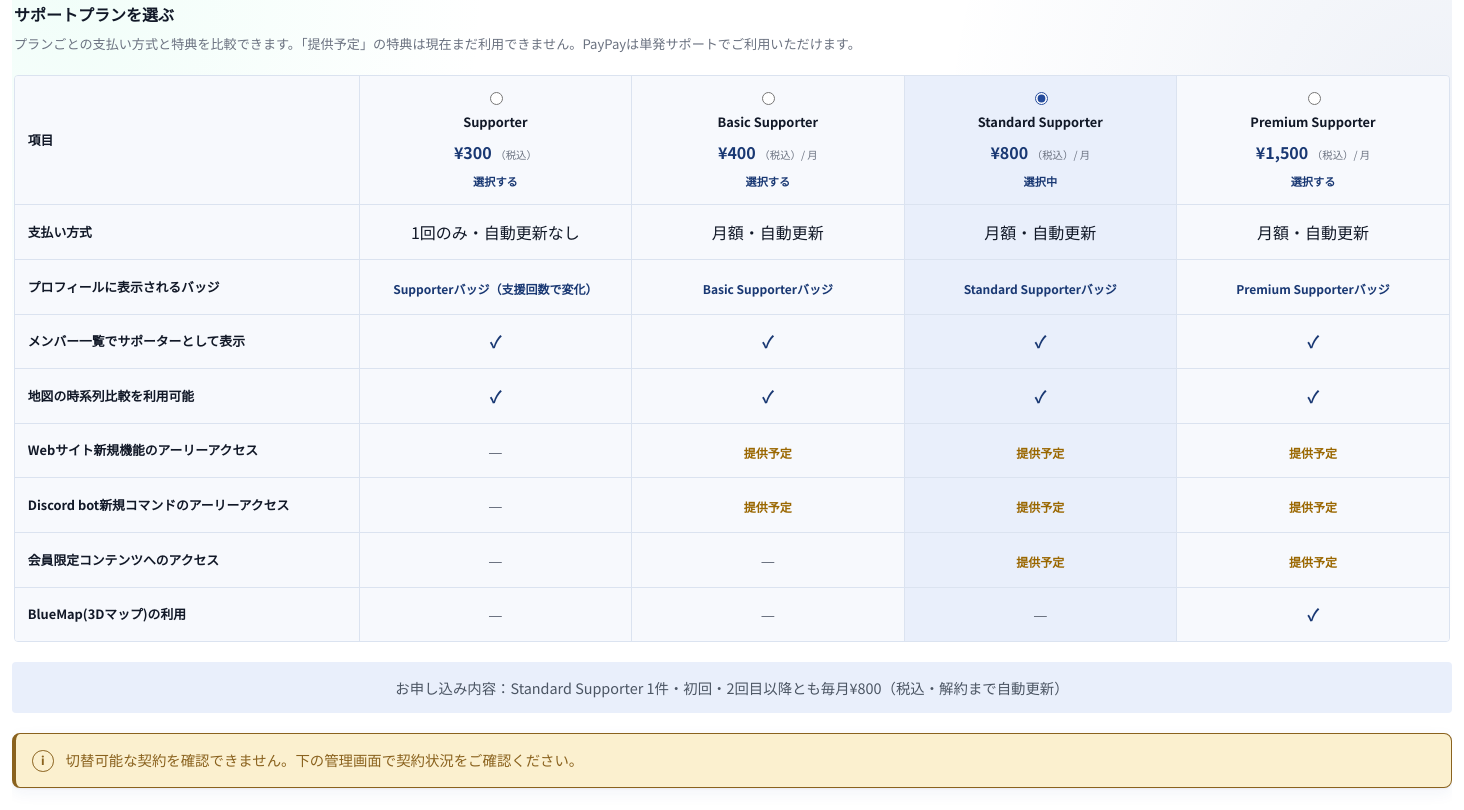
Test: SupportForm › blocks a monthly resubscription but allows one-time support
Click the radio button labelled "Supporter ¥300 （税込） 選択する" at {"x": 496, "y": 98}, box [490,92,503,105]
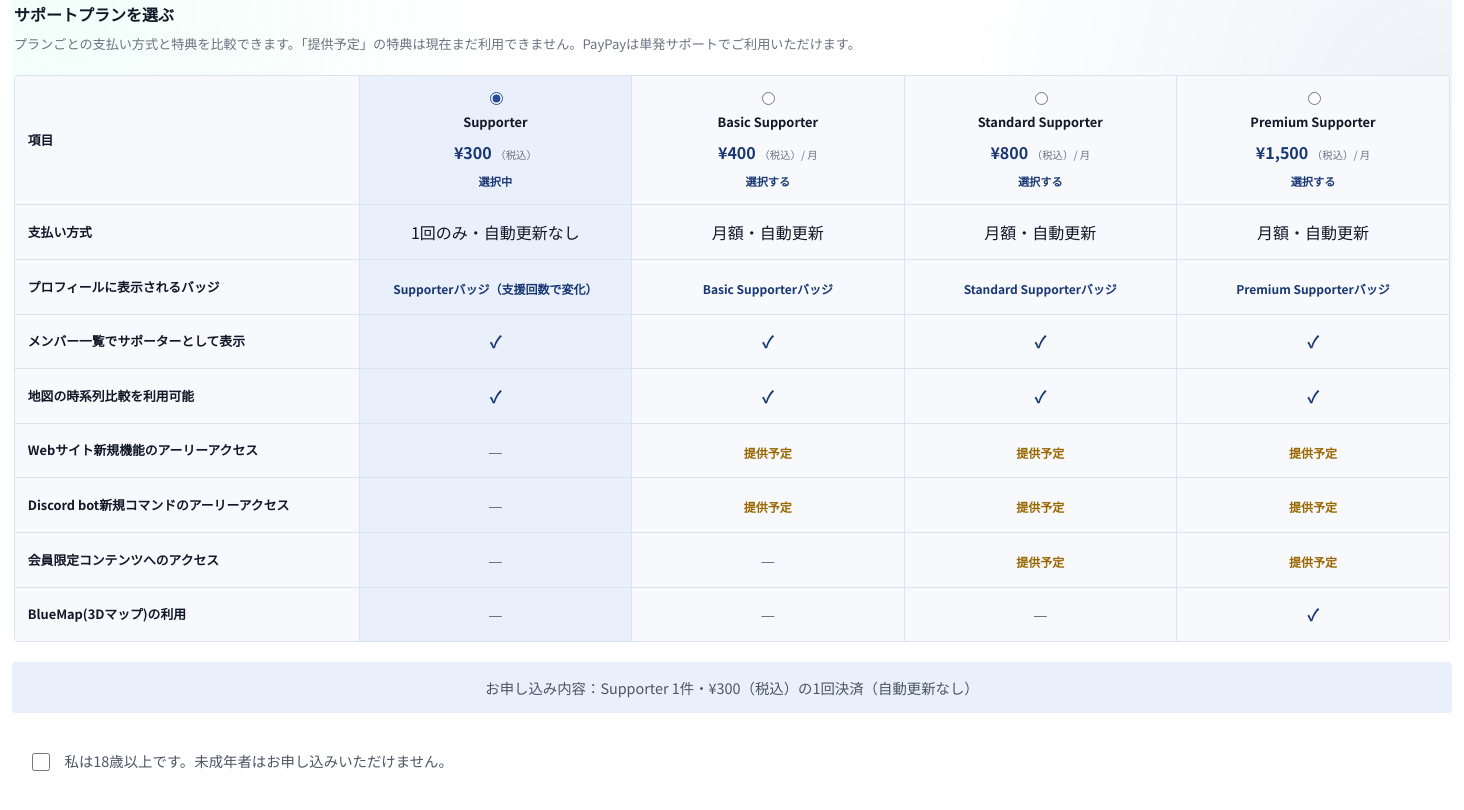
Click the checkbox labelled "私は18歳以上です。未成年者はお申し込みいただけません。" at {"x": 41, "y": 762}, box [32,753,50,771]
(page scrolled)
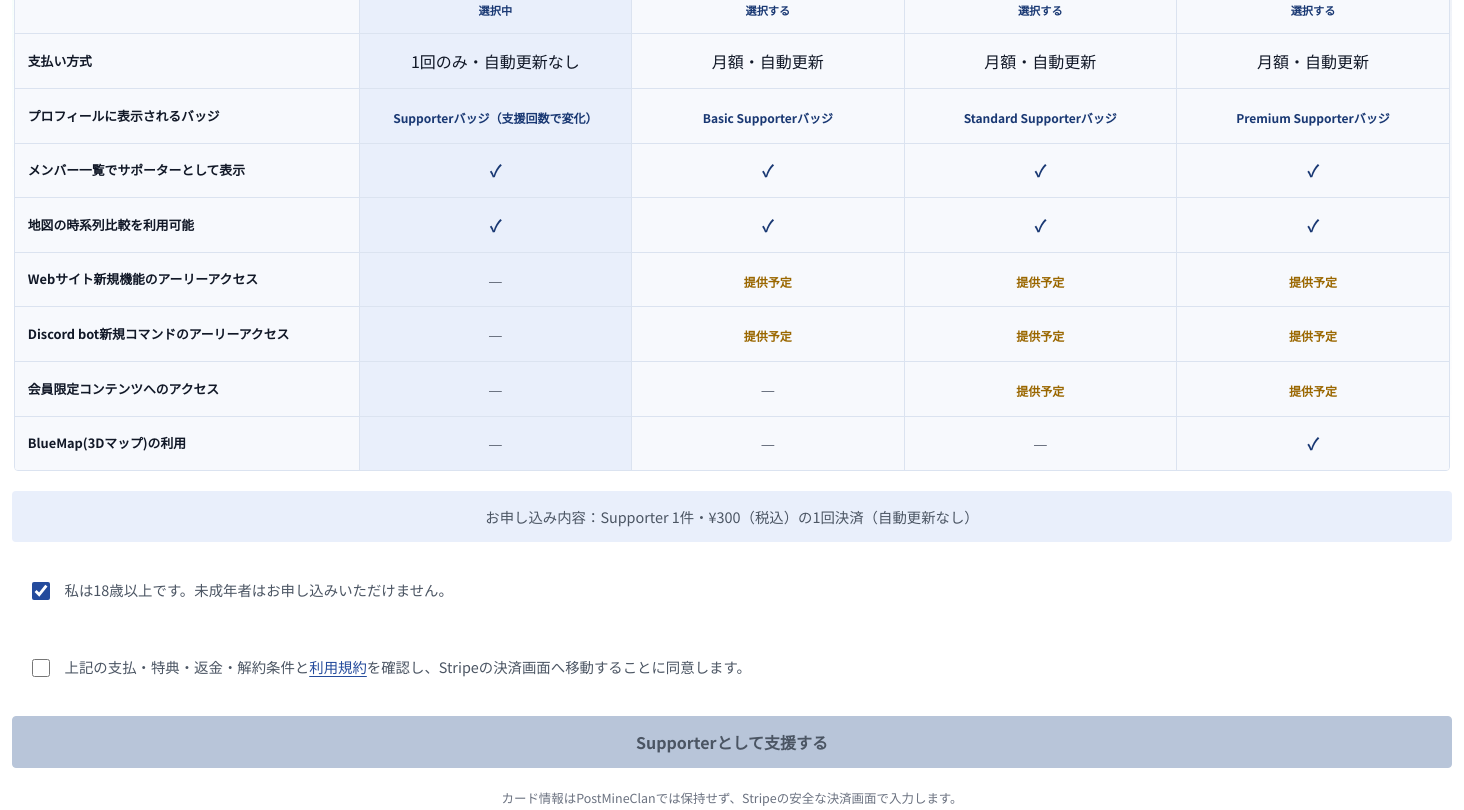
Click the checkbox labelled "上記の支払・特典・返金・解約条件と 利用規約 を確認し、Stripeの決済画面へ移動することに同意します。" at {"x": 41, "y": 668}, box [32,659,50,678]
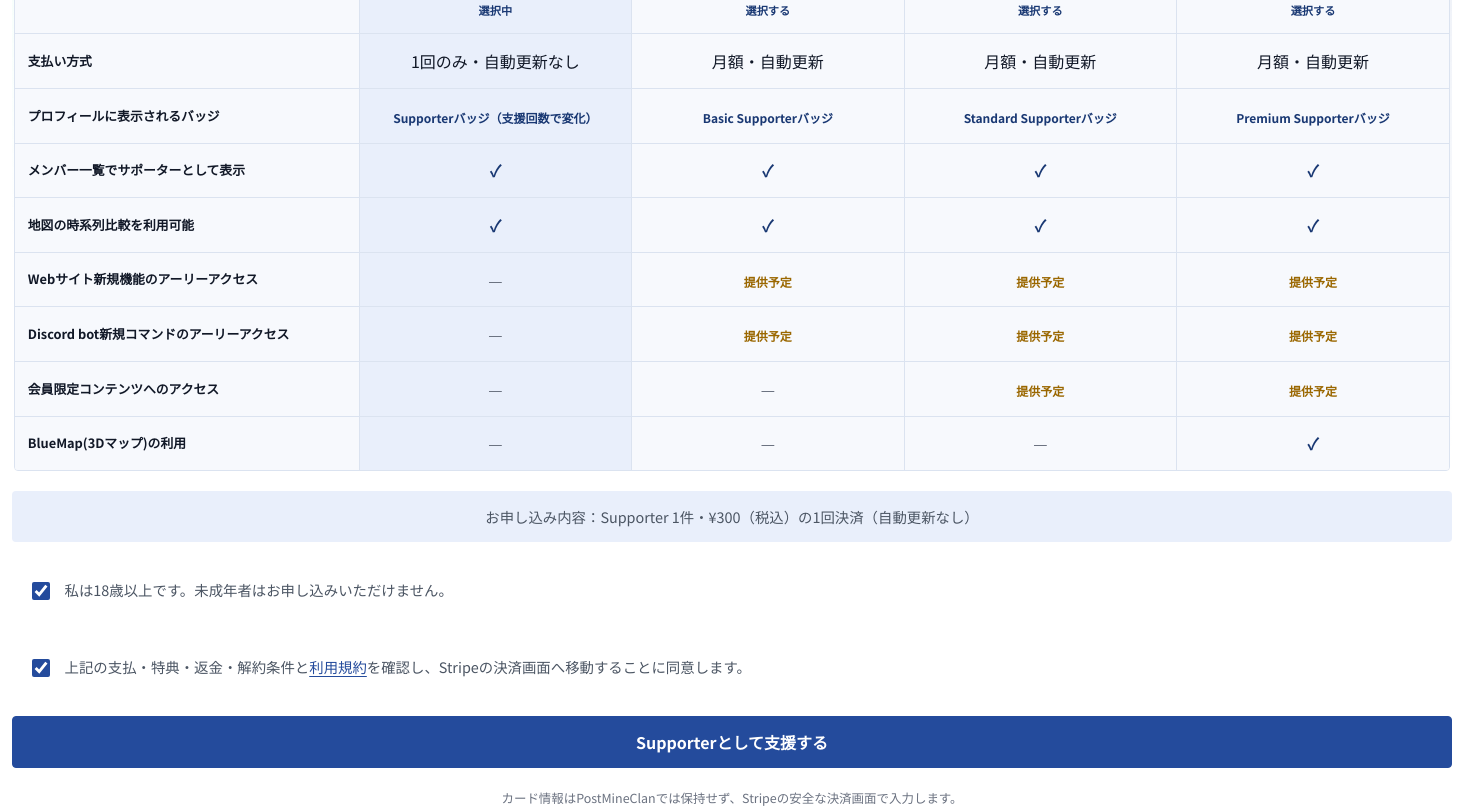
Result: the button "Supporterとして支援する" is enabled at [12,716,1452,768]
